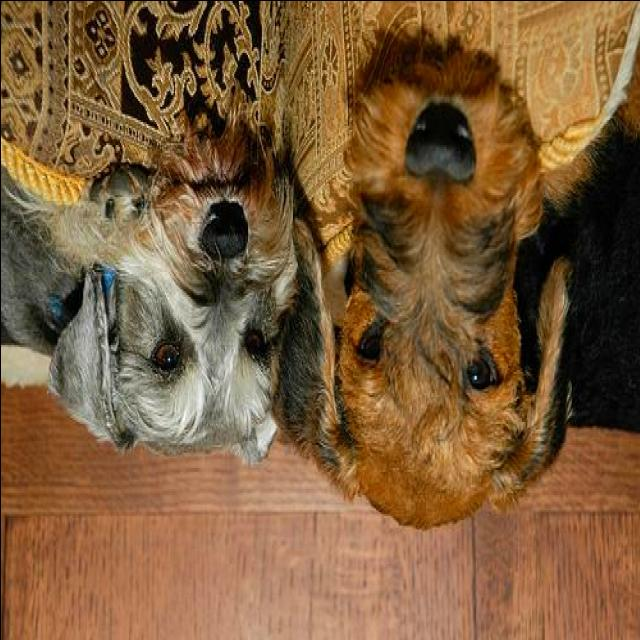airedale: (275, 40, 640, 532), (2, 90, 300, 475)
